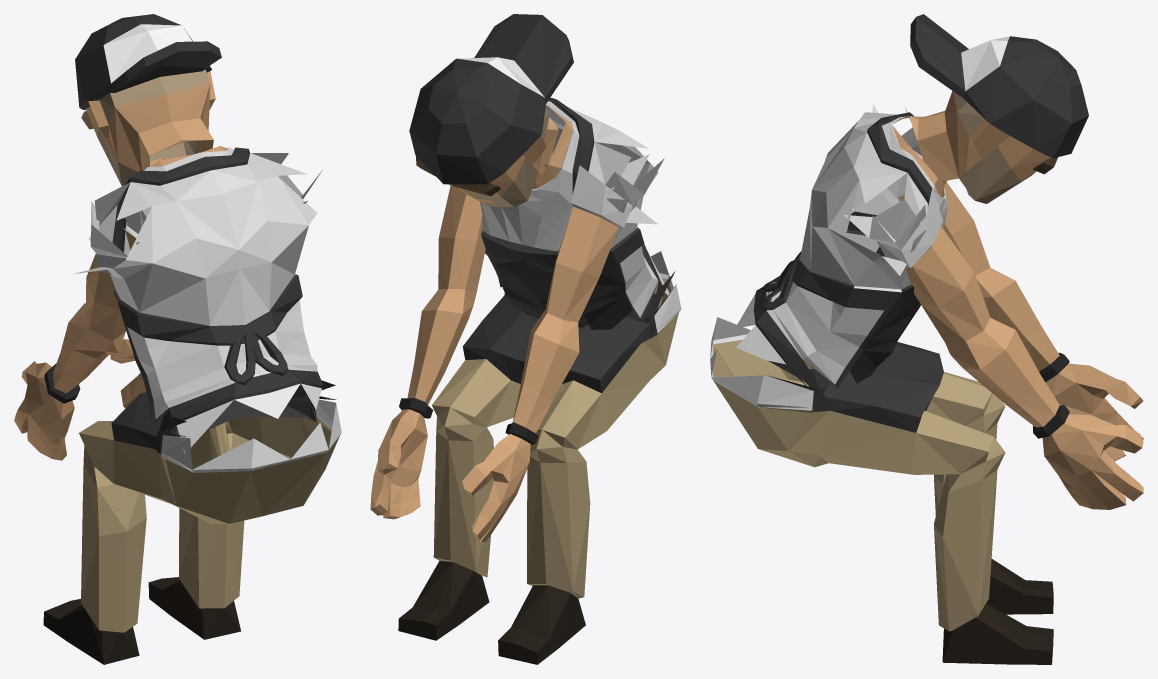
The model's file is Cop_cpr_nod.obj.
3 views of the same model, side by side, from view 1: azimuth 30°, elevation 25°; view 2: azimuth 150°, elevation 25°; view 3: azimuth 270°, elevation 25° (orthographic). The views are drawn at different scales.
Visible parts, largest first — view 1: Cop_cpr_nod; view 2: Cop_cpr_nod; view 3: Cop_cpr_nod.
Boxes of the visible parts, box(x1,y1,x2,y2) form: Cop_cpr_nod: box(14, 14, 341, 664); Cop_cpr_nod: box(370, 14, 681, 664); Cop_cpr_nod: box(710, 14, 1143, 664).
Size of the model in its own units: 0.5658 by 1.35 by 0.8749.
Materials: 1 (1 with a texture image).
